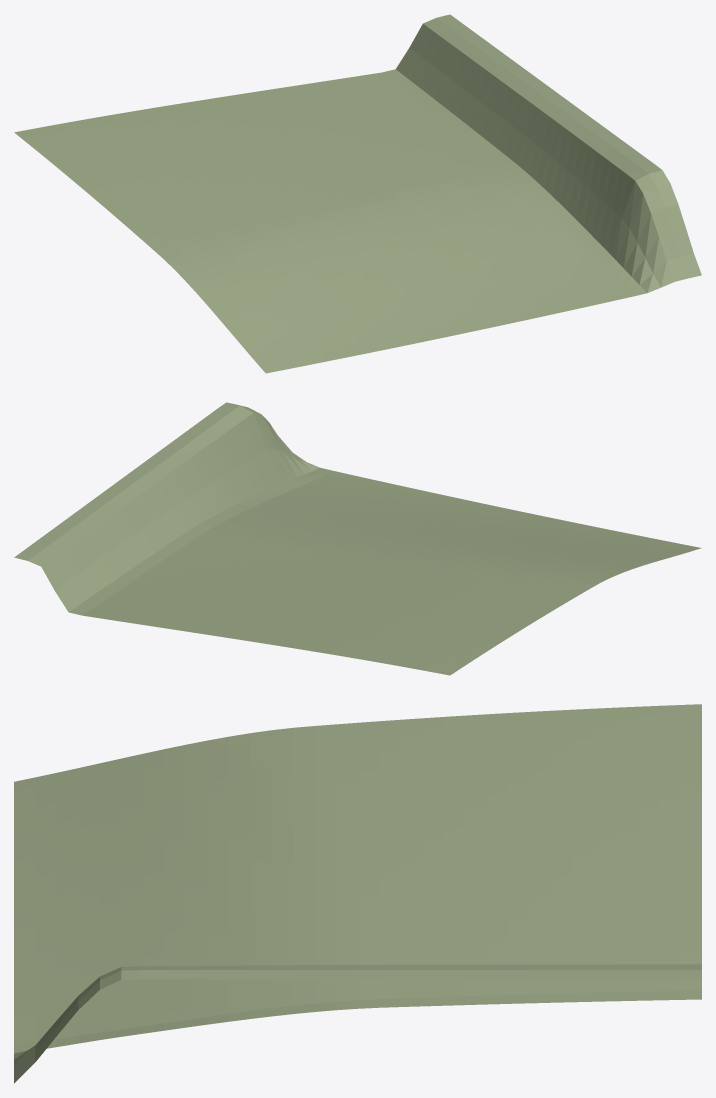
Rendered from valley-7-6.glb.
3 renders of one model, top to bottom at view 1: azimuth 30°, elevation 25°; view 2: azimuth 150°, elevation 25°; view 3: azimuth 270°, elevation 25°, orthographic. The views are drawn at different scales.
Visible parts, largest first — view 1: valley-7-6; view 2: valley-7-6; view 3: valley-7-6.
Boxes of the visible parts, x1,y1,x2,y2 form: valley-7-6: (14, 14, 701, 373); valley-7-6: (14, 402, 701, 675); valley-7-6: (14, 704, 701, 1083).
Bounding box in the file's own units: 256 × 45.52 × 256.
